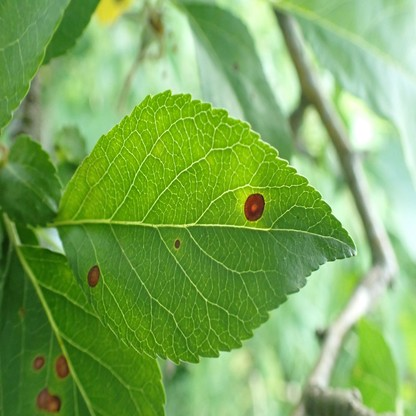frogeye_leaf_spot: (36, 387, 62, 412), (244, 194, 265, 220), (54, 357, 69, 378), (88, 266, 100, 287), (33, 356, 45, 370), (175, 239, 180, 249)
